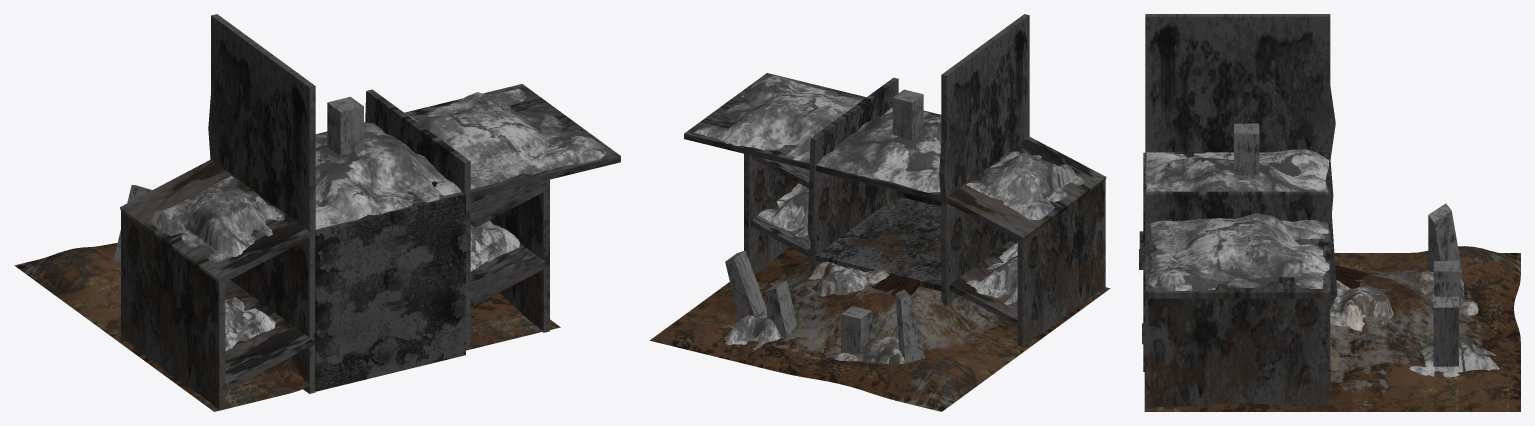
Rendered from ruin_destroyed_building_shell.glb.
The picture shows the model from 3 angles, left to right: view 1: azimuth 30°, elevation 25°; view 2: azimuth 150°, elevation 25°; view 3: azimuth 270°, elevation 25°; orthographic projection. The views are drawn at different scales.
Parts seen in each view (by area): view 1: pCube42; view 2: pCube42; view 3: pCube42.
Boxes of the visible parts, bbox=[...] form: pCube42: bbox=[14, 14, 620, 411]; pCube42: bbox=[650, 14, 1110, 411]; pCube42: bbox=[1139, 14, 1520, 411].
Size of the model in its own units: 310 by 223 by 268.
Materials: 6 (6 with a texture image).
